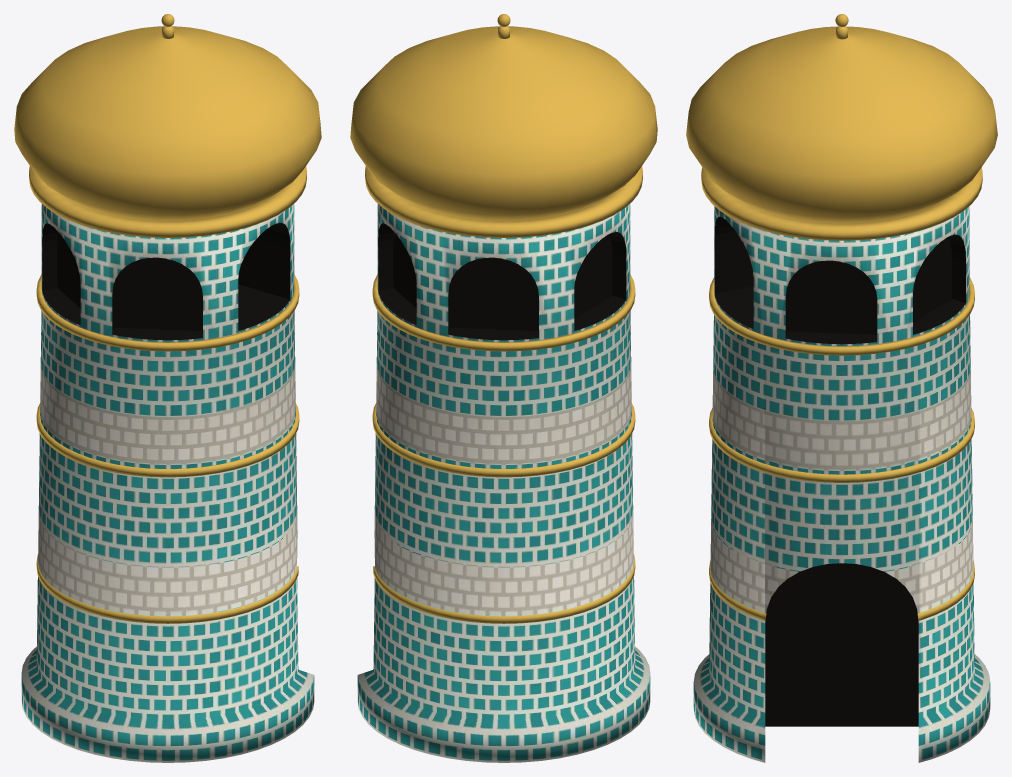
The model's file is onion-dome.glb.
3 views of the same model, side by side, from view 1: azimuth 30°, elevation 25°; view 2: azimuth 150°, elevation 25°; view 3: azimuth 270°, elevation 25° (orthographic).
Visible parts, largest first — view 1: tower.003, dome.001, gold; view 2: tower.003, dome.001, gold; view 3: tower.003, dome.001, gold.
Part boxes in pixels (x1,y1,x2,y2): tower.003: [21, 204, 314, 762]; dome.001: [14, 26, 321, 221]; gold: [29, 14, 306, 623]; tower.003: [357, 204, 650, 762]; dome.001: [350, 26, 657, 221]; gold: [365, 14, 642, 623]; tower.003: [693, 206, 990, 762]; dome.001: [686, 26, 997, 223]; gold: [701, 14, 982, 620].
Bounding box in the file's own units: 6.1 × 15 × 6.1.
Materials: 6 (1 with a texture image).
